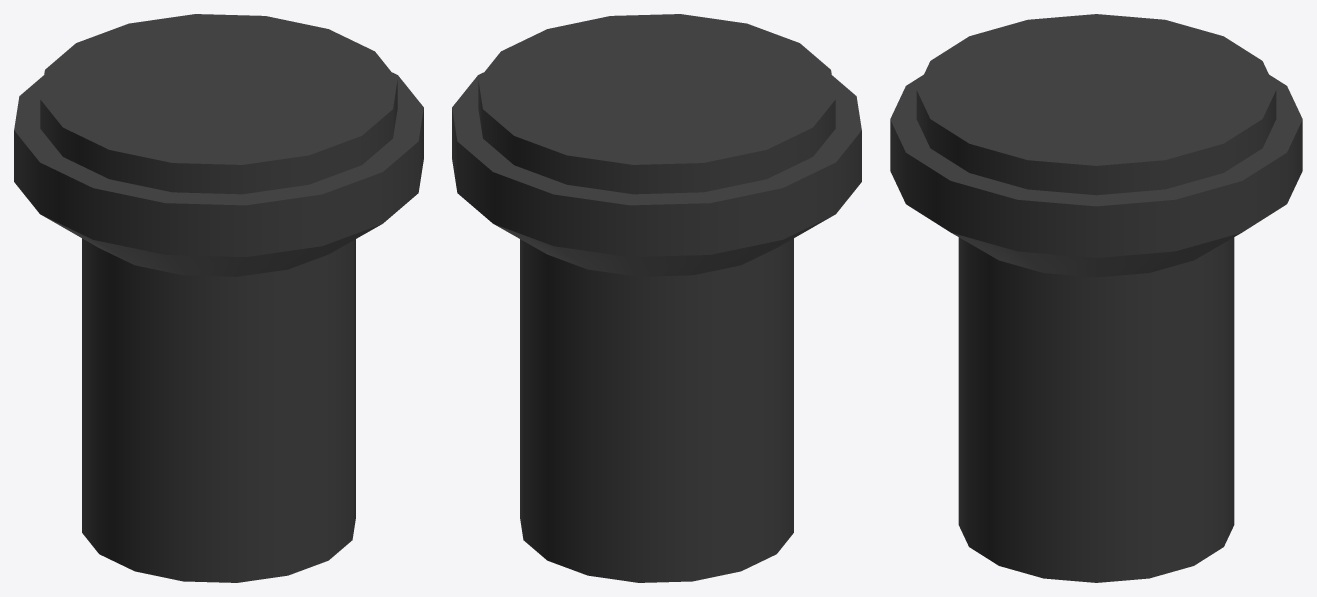
File: PipeTopClosed.fbx
3 views of the same model, side by side, from view 1: azimuth 30°, elevation 25°; view 2: azimuth 150°, elevation 25°; view 3: azimuth 270°, elevation 25° (orthographic).
Parts seen in each view (by area): view 1: Pipe.001; view 2: Pipe.001; view 3: Pipe.001.
Boxes of the visible parts, <box> form: Pipe.001: <box>14,14,423,582</box>; Pipe.001: <box>452,14,861,582</box>; Pipe.001: <box>890,14,1302,582</box>.
Bounding box in the file's own units: 299 × 348 × 299.
